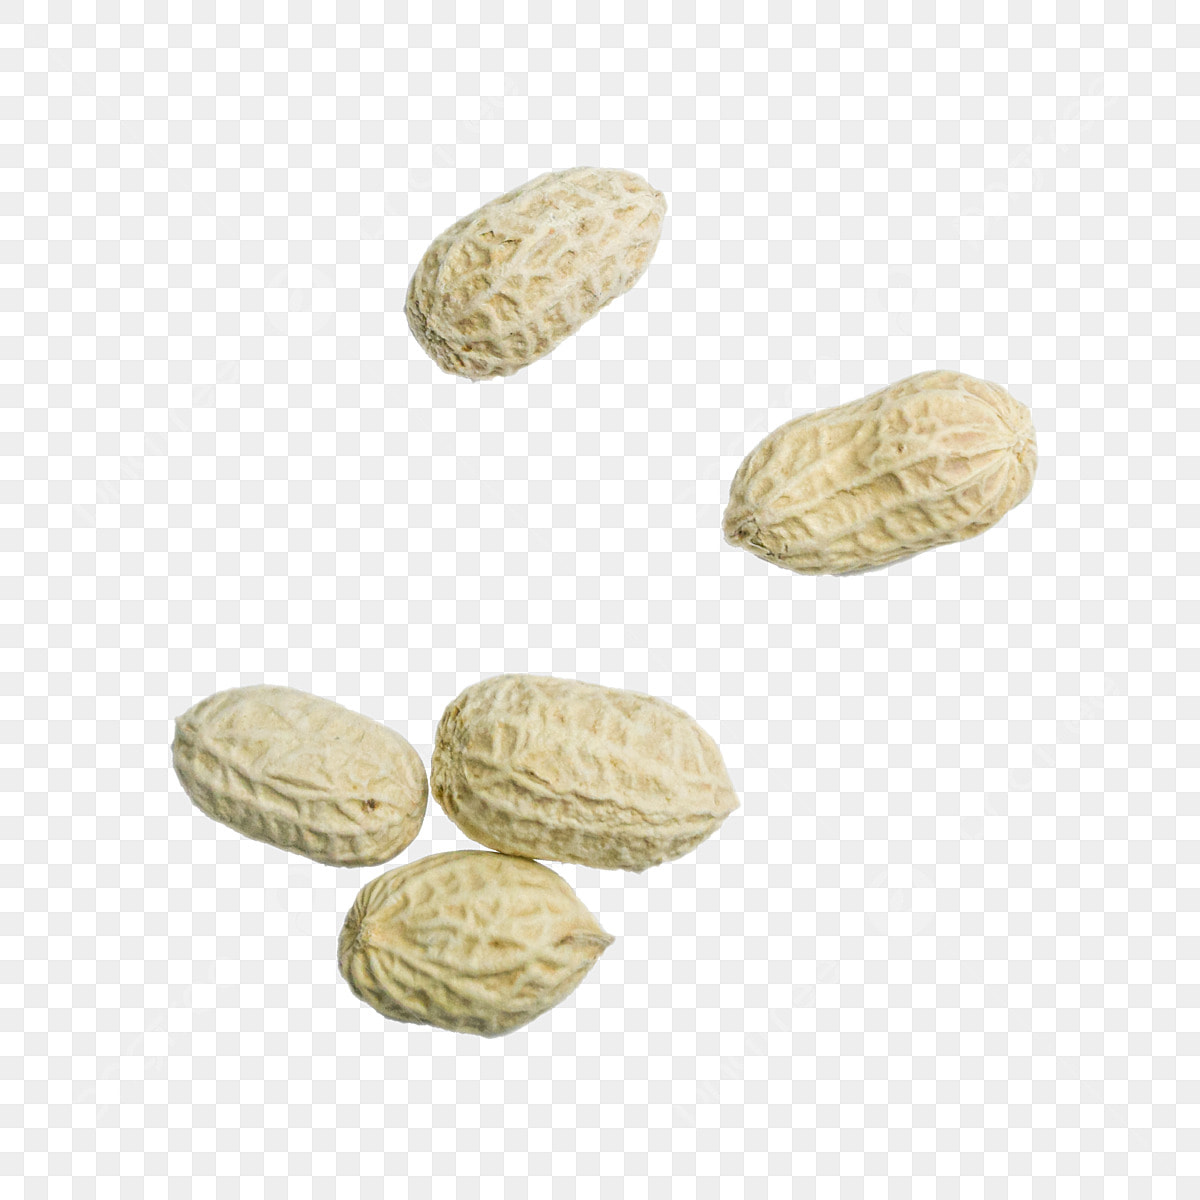kacang1: (671, 323, 1085, 613), (384, 100, 695, 405), (414, 640, 779, 876), (295, 836, 654, 1049), (155, 660, 451, 876)
